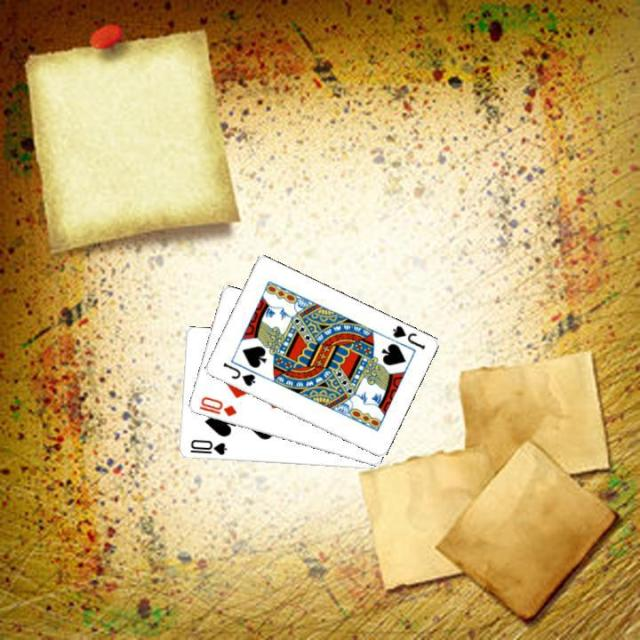10D: (195, 393, 238, 419)
10S: (186, 436, 228, 457)
JS: (219, 358, 257, 388), (388, 322, 426, 351)
